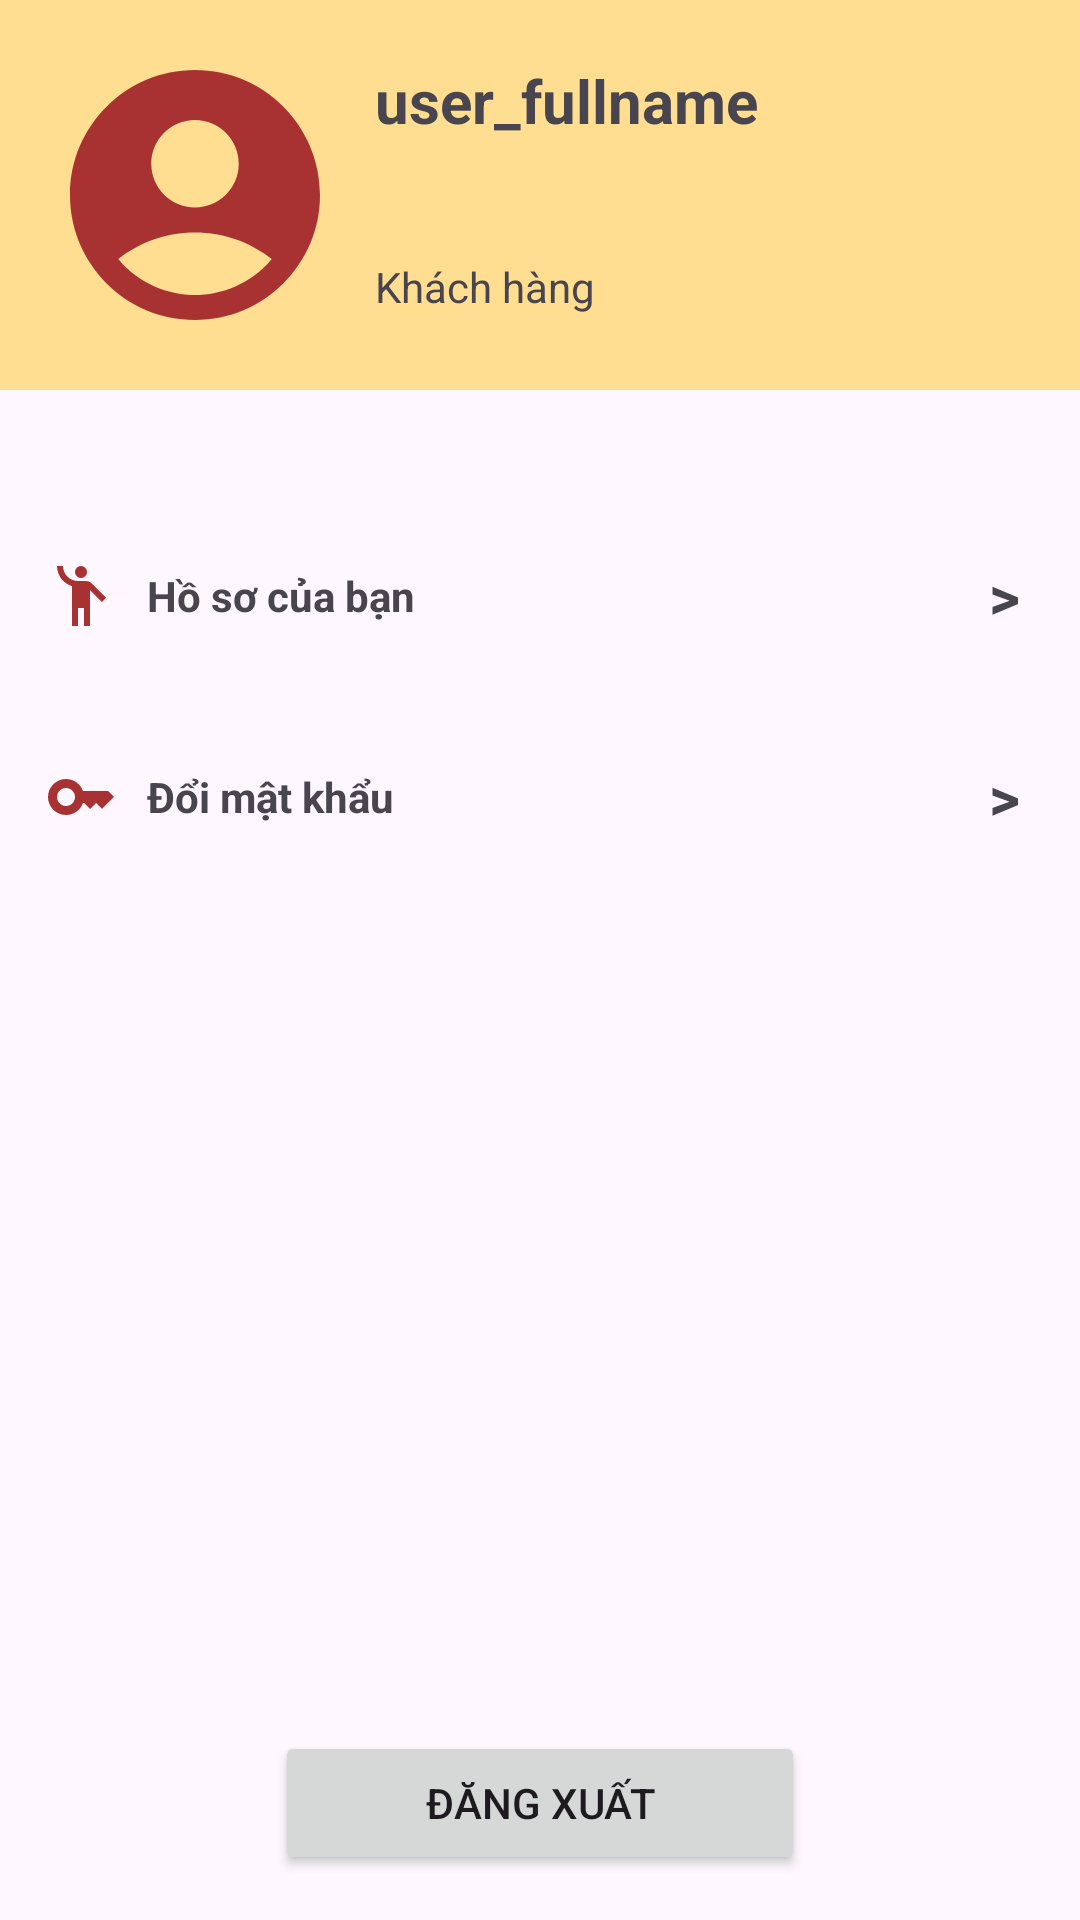

Point at icon controls on the screen. Image size 1080*1920, points as (x,y).
account: (195,195)
password: (81,797)
